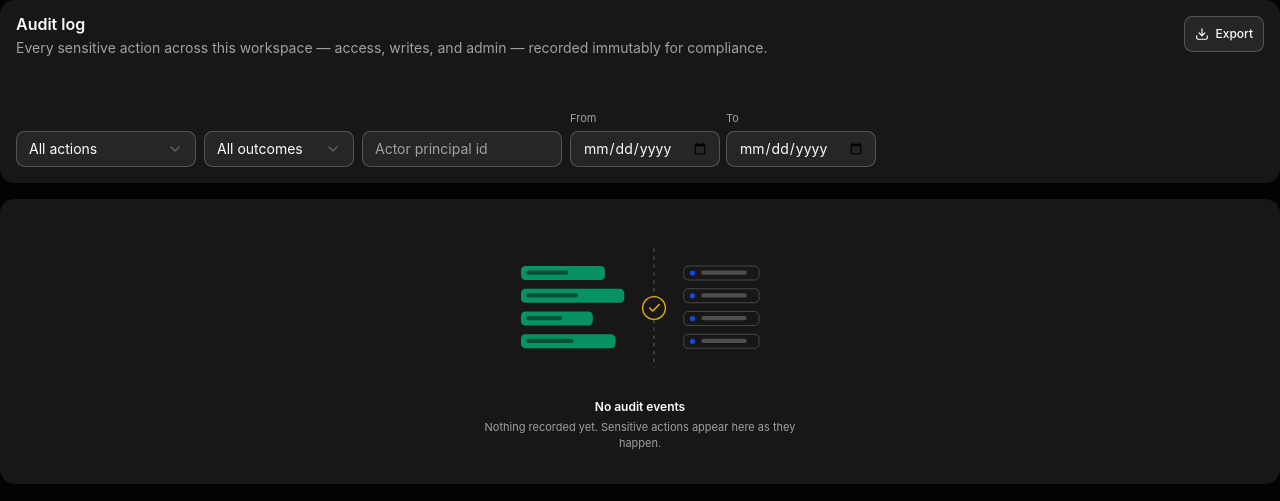
Scenario: AuditView › says why the trail is empty, honestly, in both cases
Expected: the text "Nothing recorded yet" is shown, [485,420,795,450]
Type "nobody" into the field named "Filter by actor" at (462, 148), box [362,130,562,166]
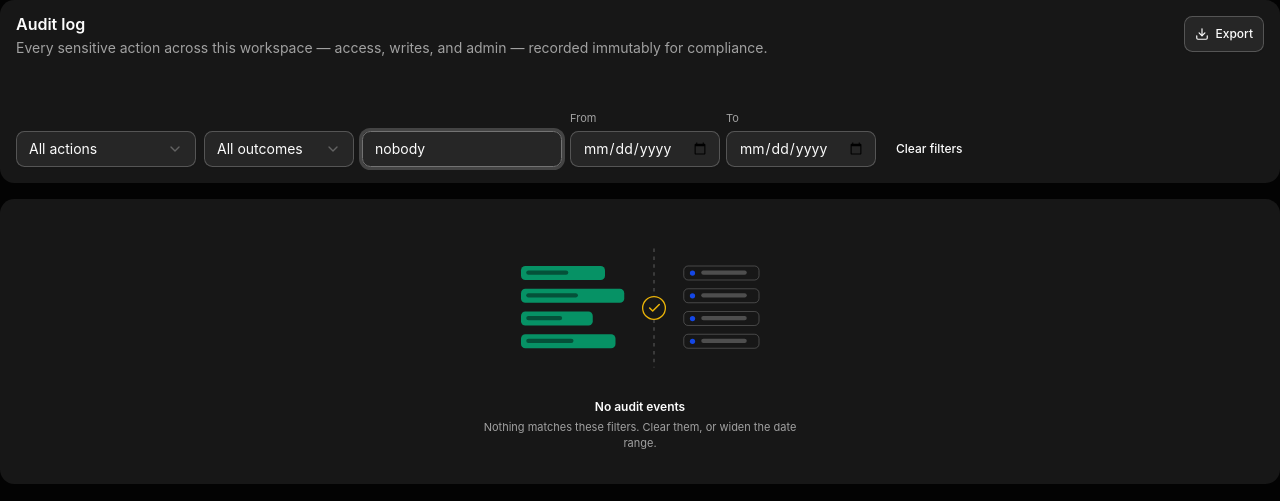
Result: the text "Nothing matches these filters" is shown at [484,420,796,450]
